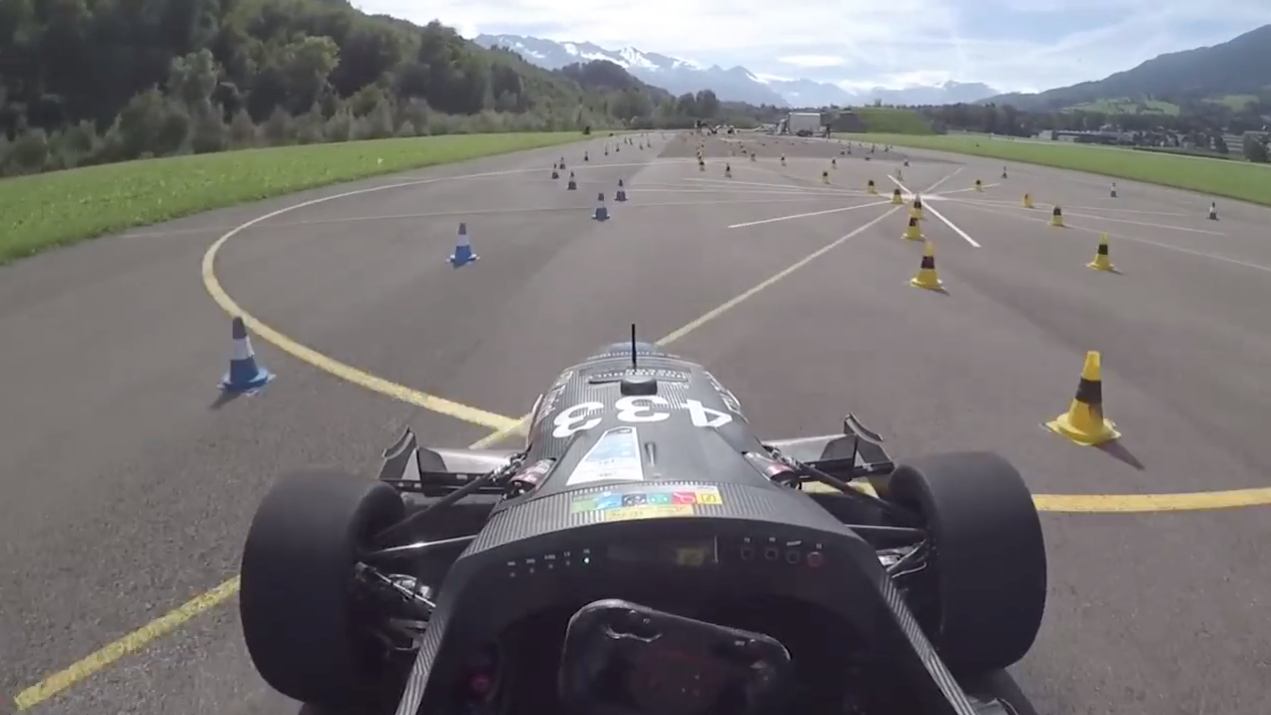lcone: (205, 310, 278, 399), (444, 217, 483, 267), (588, 190, 613, 223)
rcone: (1038, 345, 1127, 455), (906, 238, 951, 295), (1084, 228, 1117, 277), (901, 205, 928, 240)
